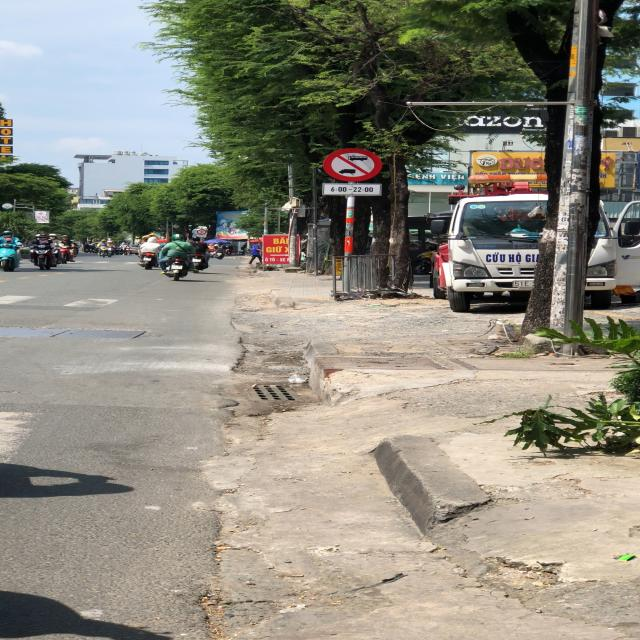Bien bao cam xe oto khach va xe oto tai: (320, 146, 389, 184)
